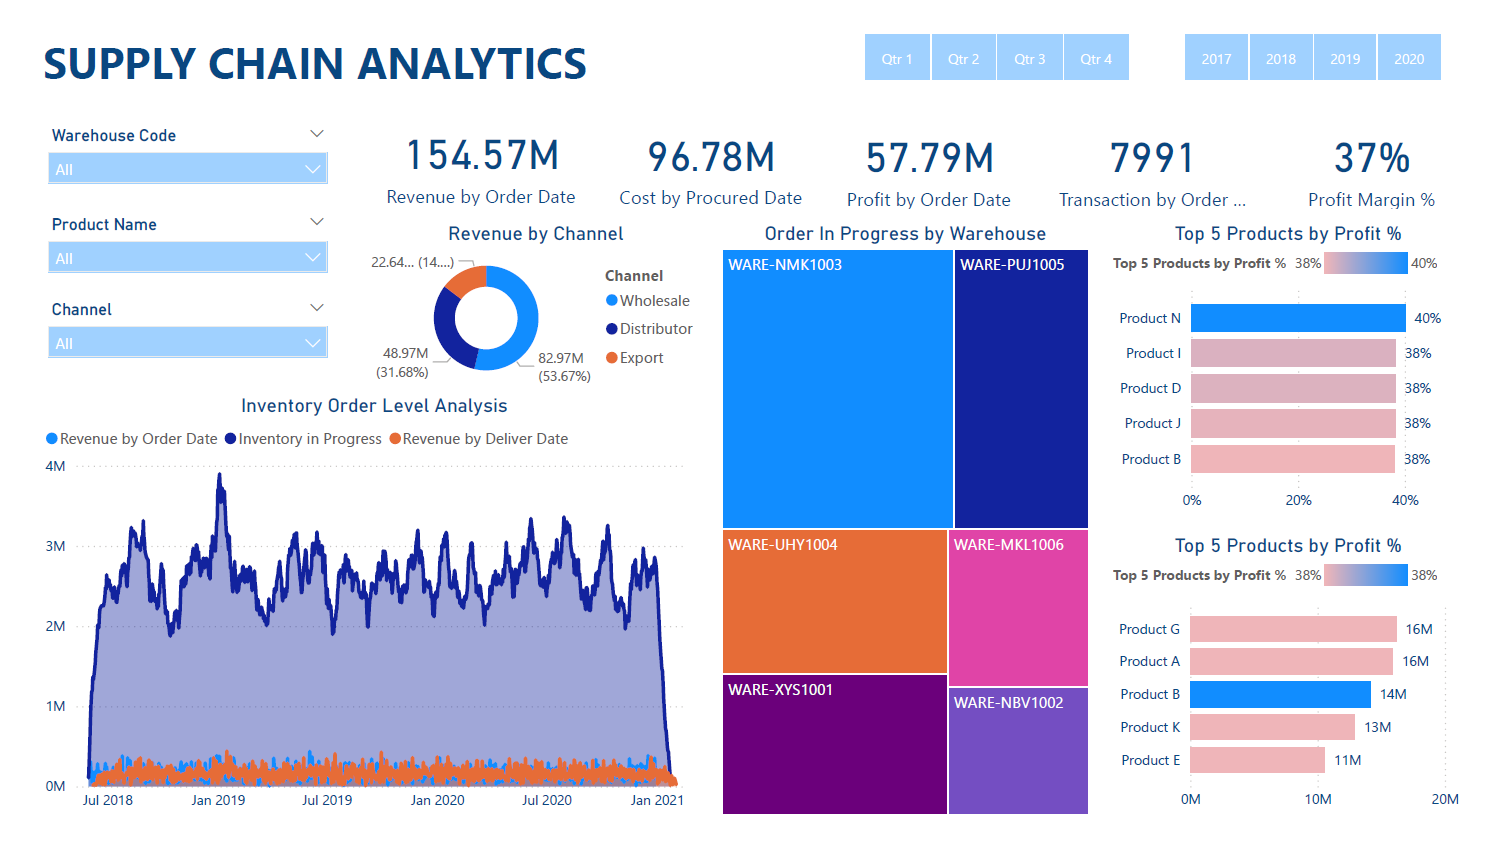

Layout of this report page (visuals, bound fields, positions):
{"tool":"powerbi","page":{"name":"Supply Chain ","canvas":[1280,720],"ordinal":0},"visuals":[{"type":"card","fields":{"Values":["Specific Calculation.Cost by Procured Date"]},"box":[520,97.3,184.2,84.3],"z":0},{"type":"slicer","fields":{"Values":["Dates.Year"]},"box":[998.1,20.2,271.2,52.3],"z":1000},{"type":"slicer","fields":{"Values":["Dates.Date.Variation.Date Hierarchy.Quarter"]},"box":[719.7,20.2,278.4,52.3],"z":2000},{"type":"card","fields":{"Values":["Specific Calculation.Revenue by Oder Date"]},"box":[319,97.3,186.7,83],"z":3000},{"type":"textbox","box":[27.4,20.2,523.4,61.9],"z":4000},{"type":"areaChart","title":"Inventory Order Level Analysis","fields":{"Y":["Specific Calculation.Revenue by Order Date","Specific Calculation.Inventory in Progress","Specific Calculation.Revenue by Deliver Date"],"Category":["Dates.Date"]},"box":[28.5,338.5,582.3,370.9],"z":5000},{"type":"slicer","fields":{"Values":["Warehouse.Warehouse Code"]},"box":[27.2,101.2,262,71.3],"z":6000},{"type":"slicer","fields":{"Values":["Products.Product Name"]},"box":[27.2,177.7,262,68.7],"z":7000},{"type":"slicer","fields":{"Values":["Sales.Channel"]},"box":[27.2,251.6,262,68.7],"z":8000},{"type":"card","fields":{"Values":["Specific Calculation.Profit by Order Date"]},"box":[710.7,98.6,180.3,84.3],"z":9000},{"type":"card","fields":{"Values":["Specific Calculation.Profit Margin %"]},"box":[1101,98.6,168.6,84.3],"z":10000},{"type":"card","fields":{"Values":["Specific Calculation.Transaction by Order Date"]},"box":[906.5,98.6,177.7,84.3],"z":11000},{"type":"clusteredBarChart","title":"Top 5 Products by Profit %","fields":{"Y":["Specific Calculation.Top 5 Products by Profit %"],"Category":["Products.Product Name"]},"box":[955.8,189.3,313.8,259.4],"z":12000},{"type":"clusteredBarChart","title":"Top 5 Products by Profit %","fields":{"Category":["Products.Product Name"],"Y":["Specific Calculation.Top 5 Products by Cost"]},"box":[955.8,460.4,313.8,249],"z":13000},{"type":"treemap","title":"Order In Progress by Warehouse","fields":{"Values":["Specific Calculation.Order In Progress"],"Group":["Warehouse.Warehouse Code"]},"box":[616.8,189.2,328.1,519.8],"z":14000},{"type":"donutChart","title":"Revenue by Channel","fields":{"Y":["Specific Calculation.Revenue by Order Date"],"Category":["Sales.Channel"]},"box":[308.7,189.3,302.2,149.1],"z":16000}]}

Visuals, with their boxes in screenshot pixels (x1, y1, x2, y2), scaled from the page's 1280x720 canvas onto the 1488x844 screenshot:
card - Specific Calculation.Cost by Procured Date: x1=604 y1=114 x2=819 y2=213
slicer - Dates.Year: x1=1160 y1=24 x2=1476 y2=85
slicer - Dates.Date.Variation.Date Hierarchy.Quarter: x1=837 y1=24 x2=1160 y2=85
card - Specific Calculation.Revenue by Oder Date: x1=371 y1=114 x2=588 y2=211
textbox: x1=32 y1=24 x2=640 y2=96
"Inventory Order Level Analysis" areaChart: x1=33 y1=397 x2=710 y2=832
slicer - Warehouse.Warehouse Code: x1=32 y1=119 x2=336 y2=202
slicer - Products.Product Name: x1=32 y1=208 x2=336 y2=289
slicer - Sales.Channel: x1=32 y1=295 x2=336 y2=375
card - Specific Calculation.Profit by Order Date: x1=826 y1=116 x2=1036 y2=214
card - Specific Calculation.Profit Margin %: x1=1280 y1=116 x2=1476 y2=214
card - Specific Calculation.Transaction by Order Date: x1=1054 y1=116 x2=1260 y2=214
"Top 5 Products by Profit %" clusteredBarChart: x1=1111 y1=222 x2=1476 y2=526
"Top 5 Products by Profit %" clusteredBarChart: x1=1111 y1=540 x2=1476 y2=832
"Order In Progress by Warehouse" treemap: x1=717 y1=222 x2=1098 y2=831
"Revenue by Channel" donutChart: x1=359 y1=222 x2=710 y2=397
